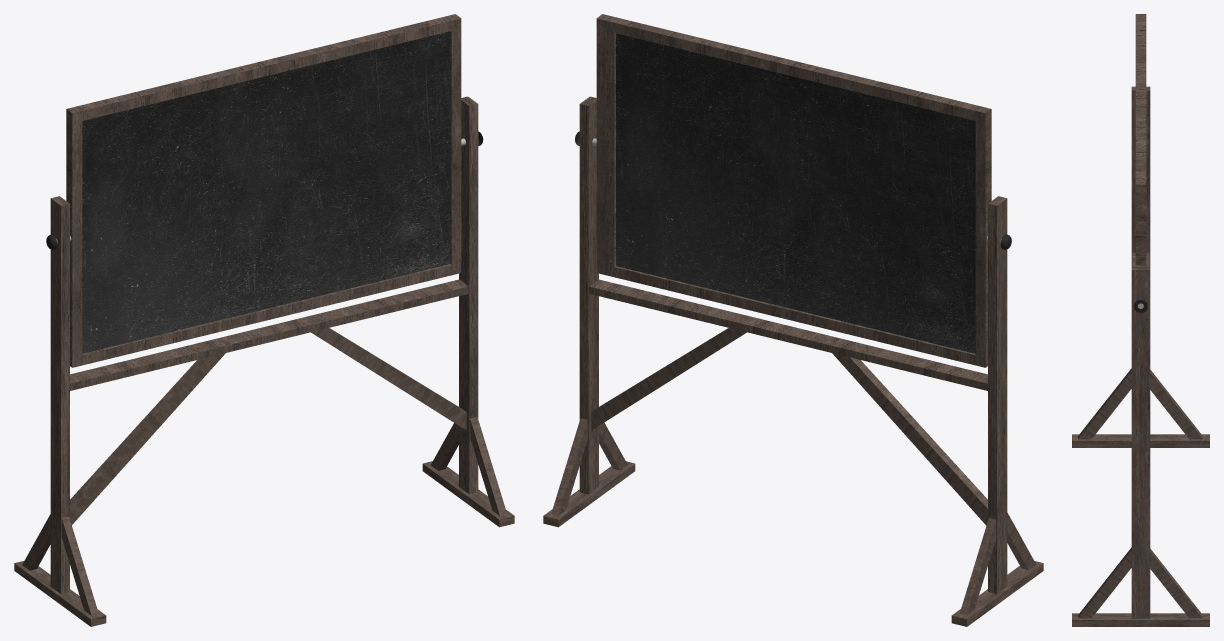
The picture shows the model from 3 angles, left to right: view 1: azimuth 30°, elevation 25°; view 2: azimuth 150°, elevation 25°; view 3: azimuth 270°, elevation 25°; orthographic projection. The views are drawn at different scales.
Parts seen in each view (by area): view 1: piece_2_1, piece_1_0; view 2: piece_2_1, piece_1_0; view 3: piece_1_0, piece_2_1.
Boxes of the visible parts, bbox=[...] form: piece_2_1: bbox=[66, 14, 461, 367]; piece_1_0: bbox=[14, 96, 514, 626]; piece_2_1: bbox=[596, 14, 991, 367]; piece_1_0: bbox=[543, 96, 1043, 626]; piece_1_0: bbox=[1072, 86, 1209, 626]; piece_2_1: bbox=[1135, 14, 1146, 265].
Size of the model in its own units: 1.95 by 2.08 by 0.5977.
Materials: 4 (2 with a texture image).
